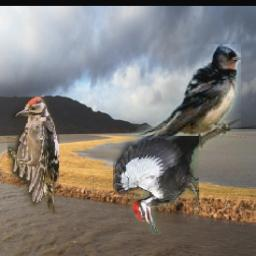Swallow: (103, 45, 241, 151)
Woodpecker: (113, 136, 199, 234), (8, 97, 59, 215)
